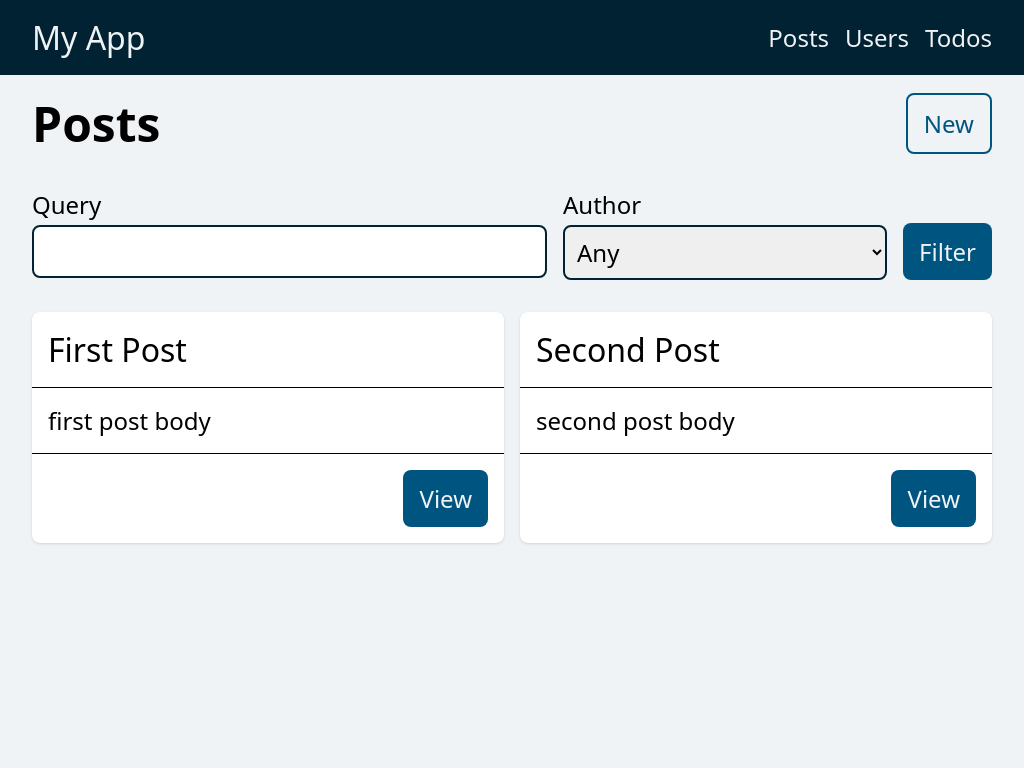
Test: PostList component › properly filters the post list based on filter inputs
Expected: the text "first post" is shown, [32,312,504,388]
Expected: the text "second post" is shown, [520,312,992,388]
Type "first" into the search field labelled "Query".
click(290, 252); type("first")  # box [32,225,547,278]
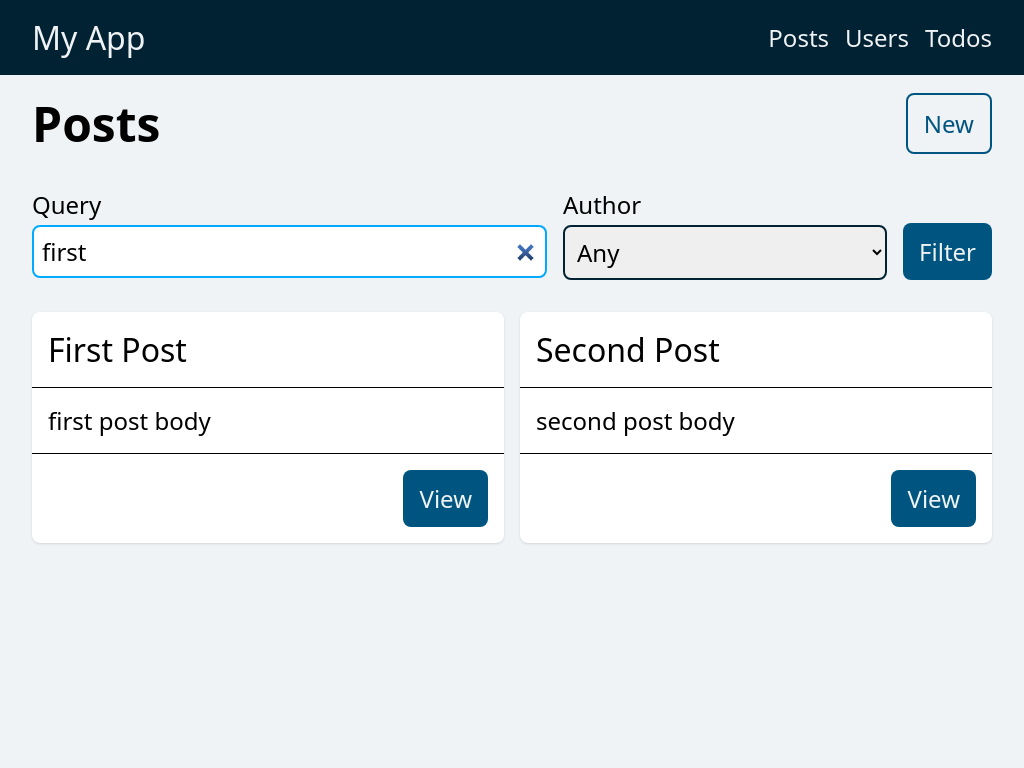
Click the button "Filter".
click(948, 252)  # box [903,223,992,280]
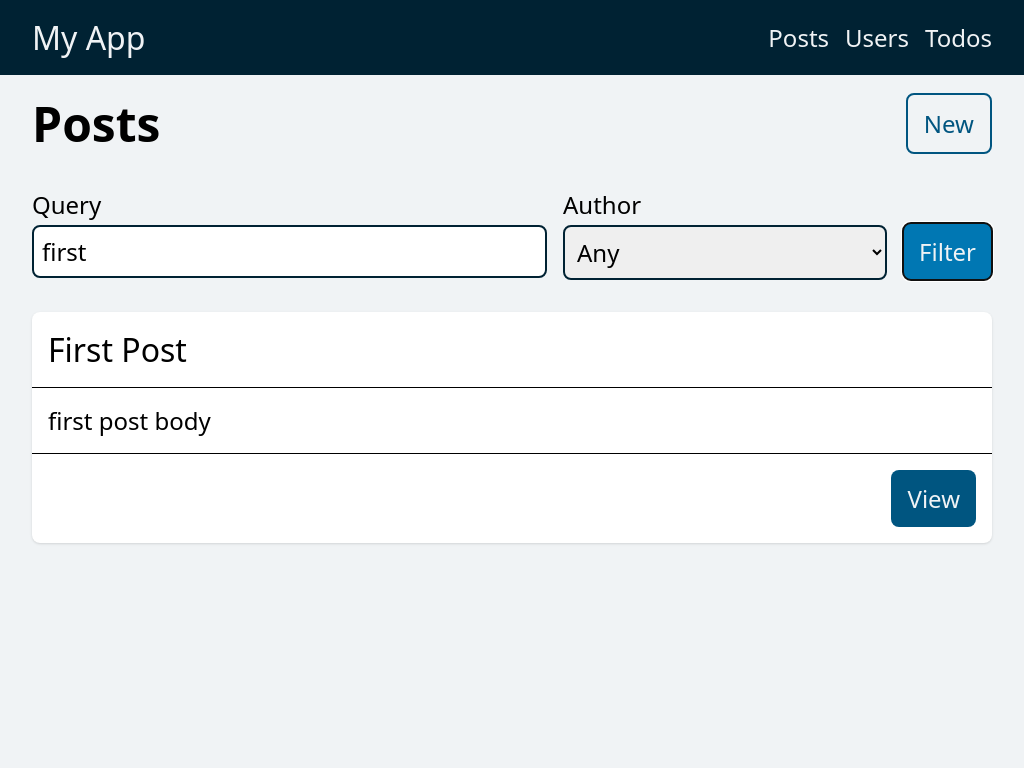
Expected: the text "first post" is shown, [32,312,992,388]
Result: the text "second post" is gone
Select "second user" in the dropdown labelled "Author" at coordinates (725, 252), box [563,225,887,280]
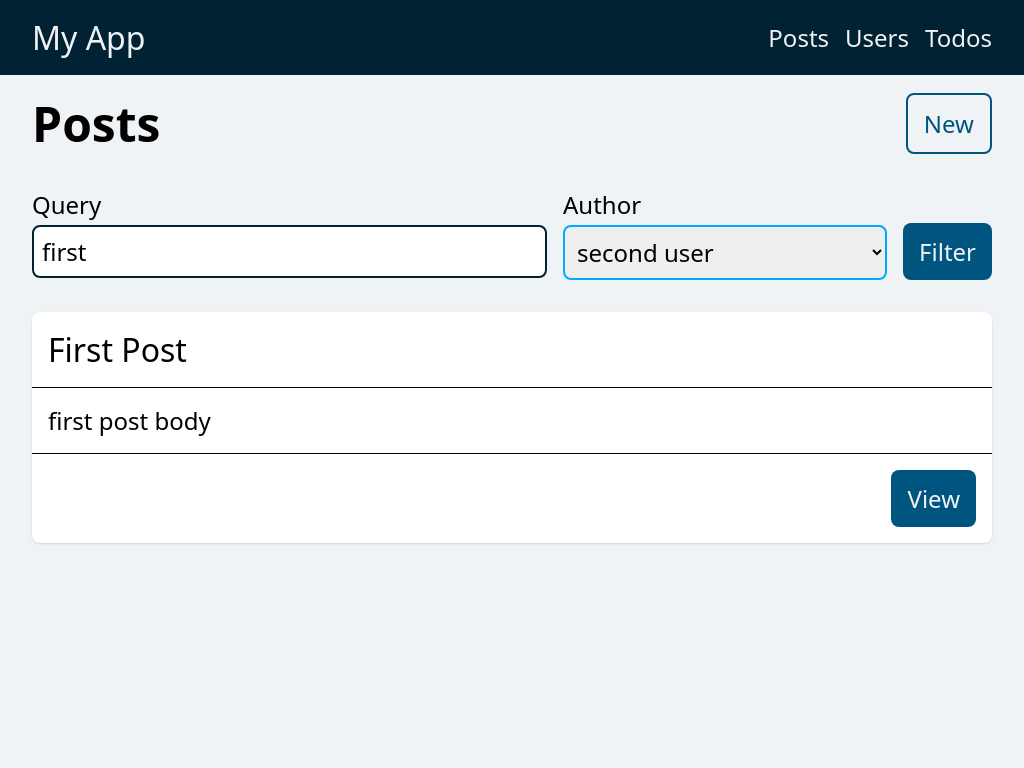
Clear the search field labelled "Query" at coordinates (290, 252), box [32,225,547,278]
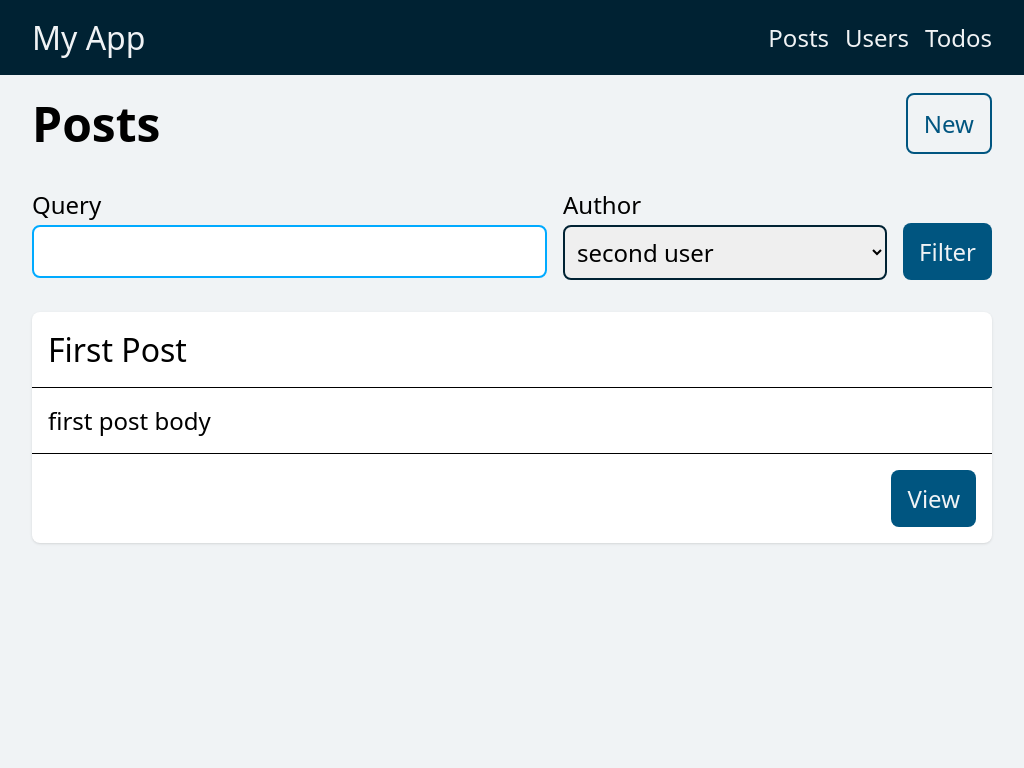
Click the button "Filter".
click(948, 252)  # box [903,223,992,280]
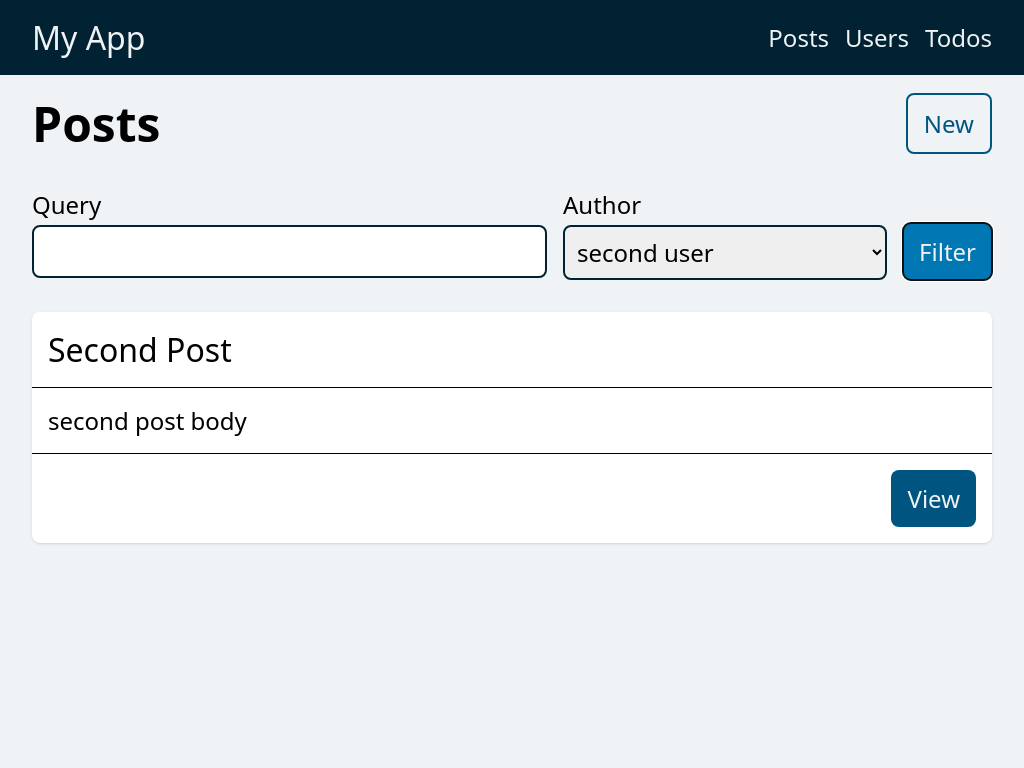
Result: the text "first post" is gone
Result: the text "second post" is shown at [32,312,992,388]
